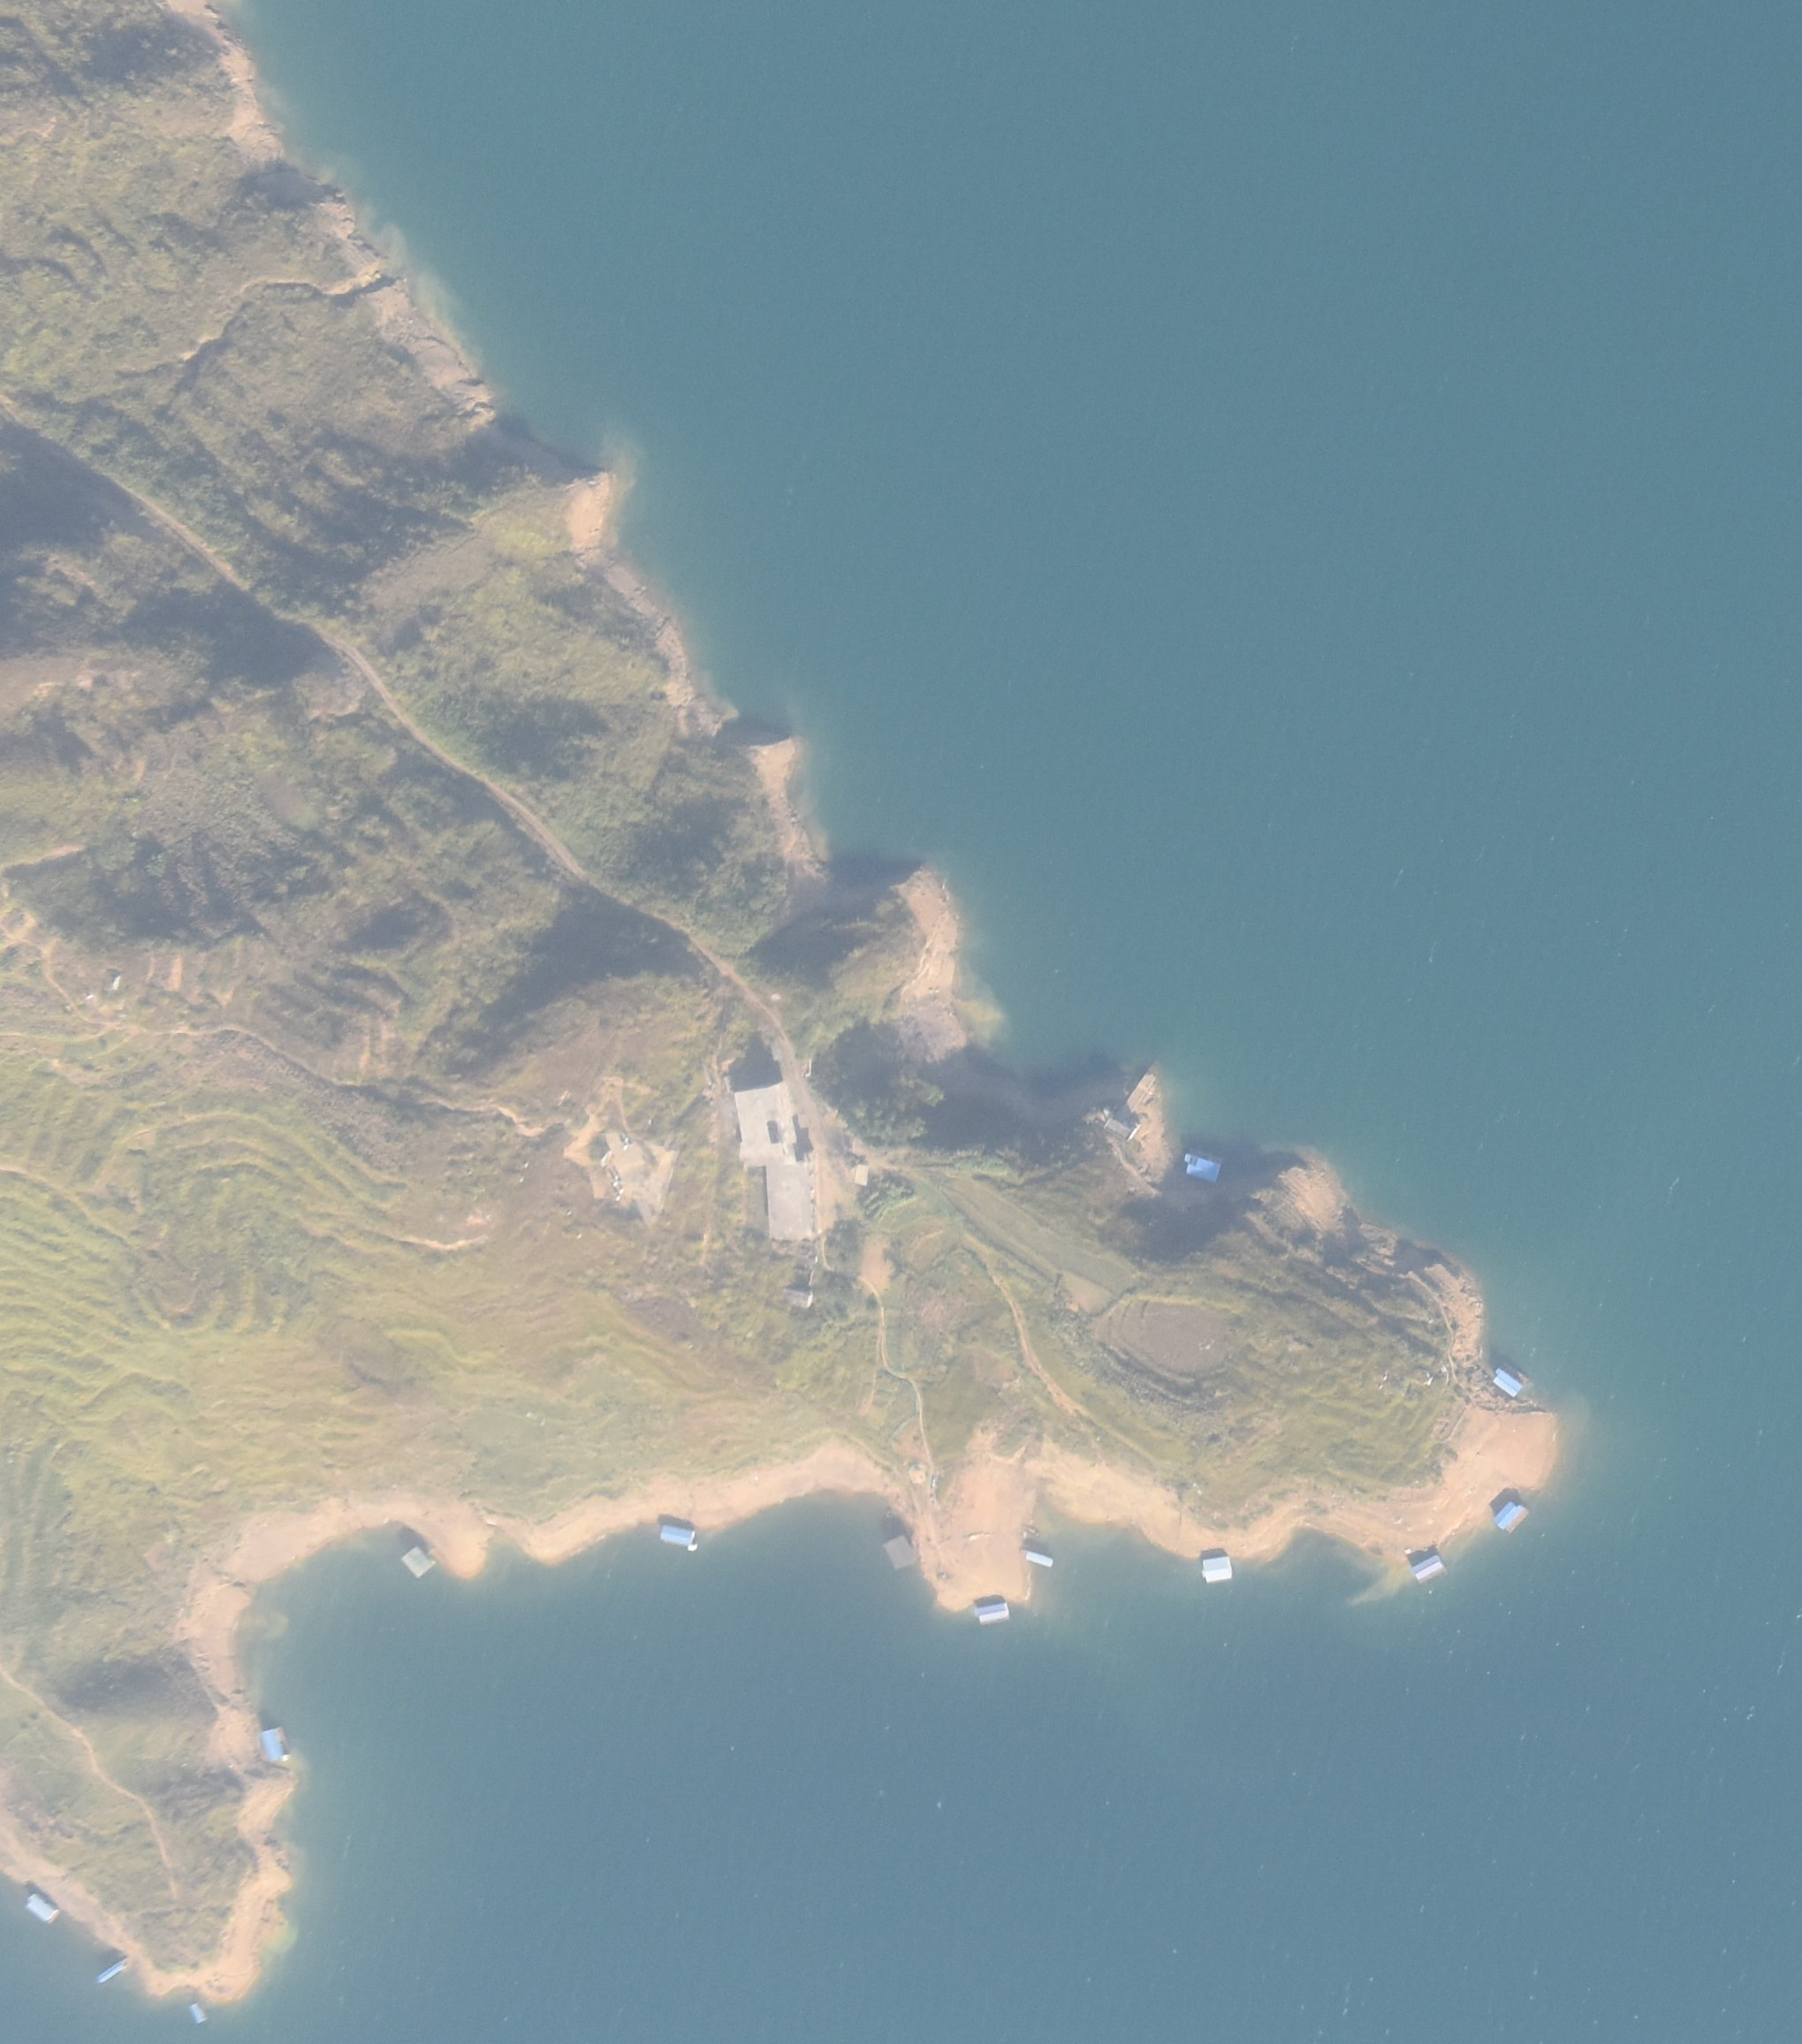building: (732, 1082, 788, 1166), (769, 1162, 818, 1242), (1117, 1070, 1164, 1117), (607, 1129, 647, 1178), (781, 1268, 814, 1308), (1103, 1117, 1138, 1139)
prefabricated-house: (882, 1534, 918, 1571), (1185, 1150, 1223, 1183), (400, 1545, 437, 1578), (661, 1522, 697, 1555), (261, 1726, 289, 1764), (1494, 1501, 1527, 1533), (1492, 1366, 1524, 1399), (1411, 1555, 1447, 1583), (24, 1893, 54, 1924), (974, 1599, 1011, 1623), (1200, 1557, 1231, 1583), (186, 2002, 207, 2027)
ship: (96, 1955, 132, 1985)
